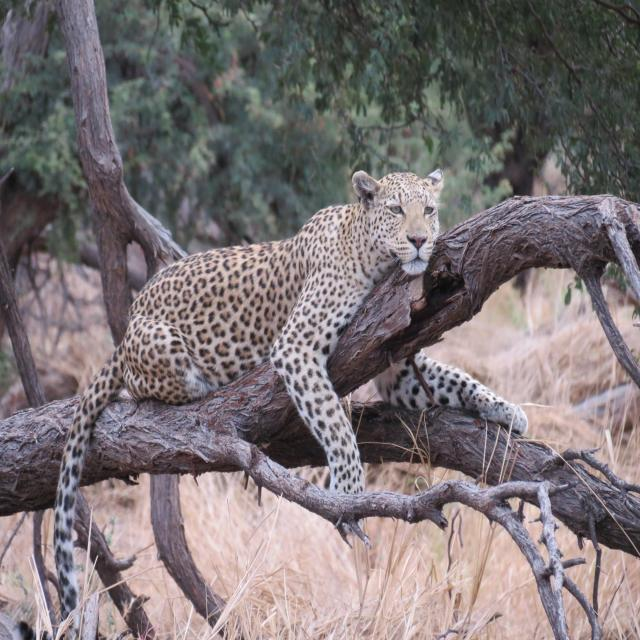Leopard: (25, 160, 496, 598)
